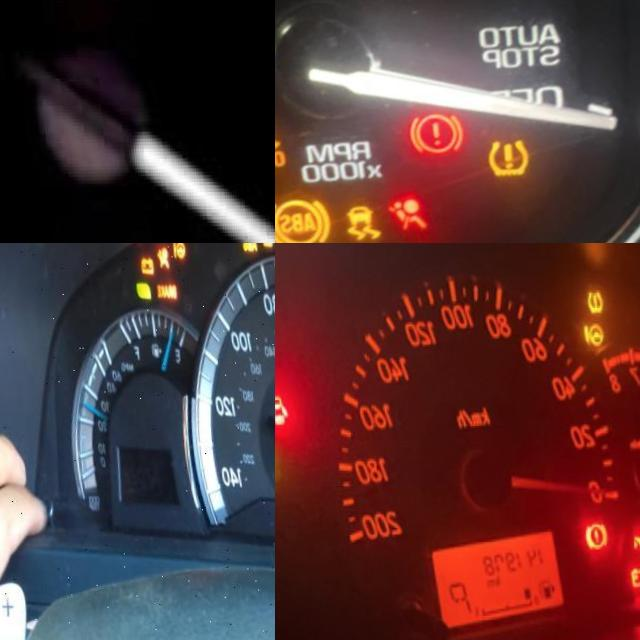Electronic Power Steering: (574, 321, 604, 353)
